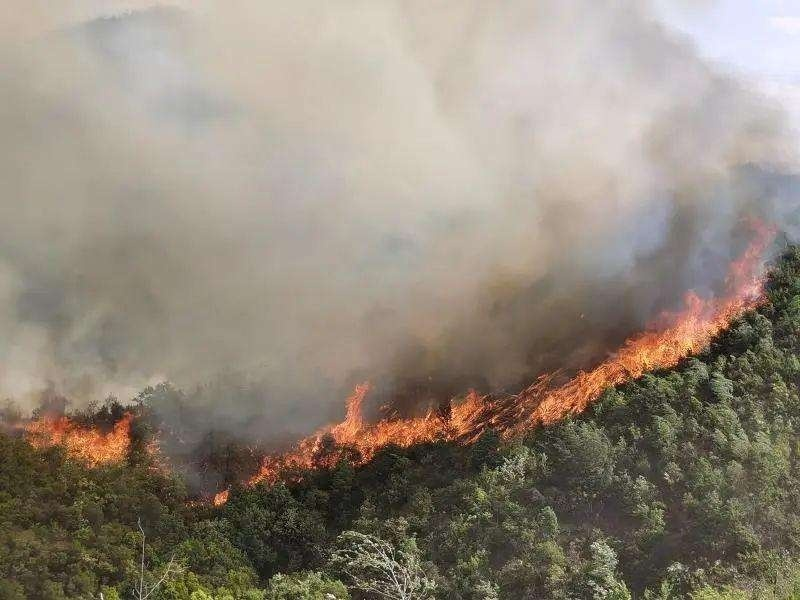fire: (205, 239, 752, 486), (4, 401, 147, 471)
